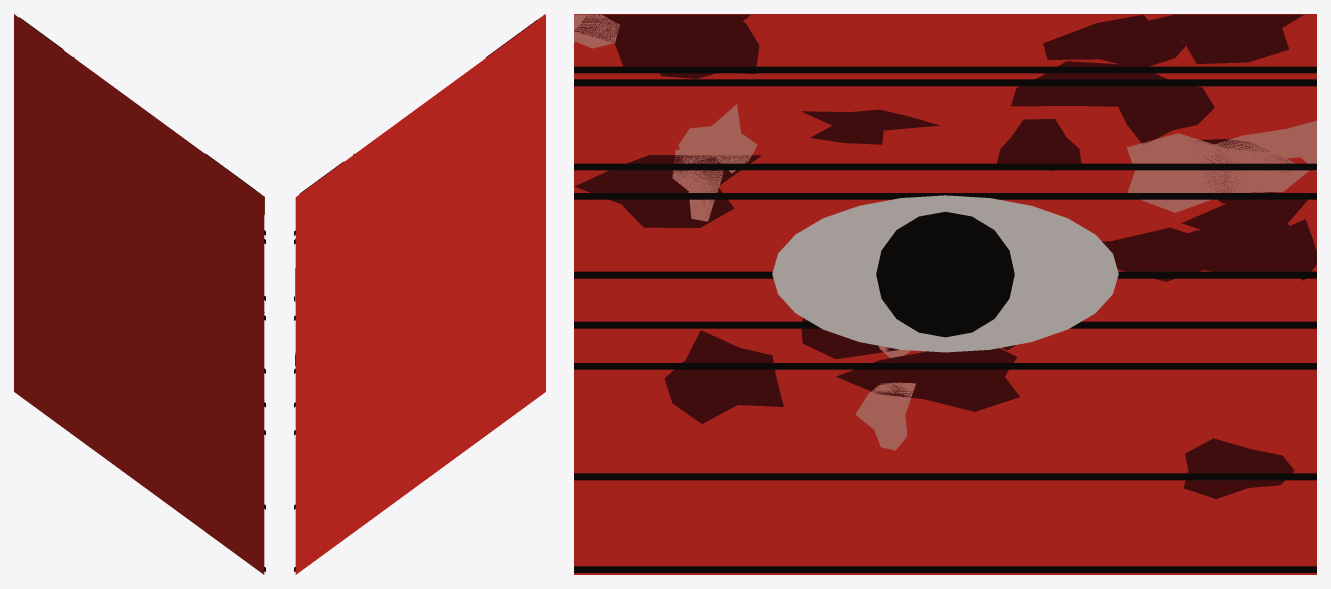
Rendered from ps_screen.glb.
3 renders of one model, left to right at view 1: azimuth 30°, elevation 25°; view 2: azimuth 150°, elevation 25°; view 3: azimuth 270°, elevation 25°, orthographic. The views are drawn at different scales.
Visible parts, largest first — view 1: teil0; view 2: teil0; view 3: teil0, teil2, teil3, teil4, teil1.
Boxes of the visible parts, x1,y1,x2,y2 form: teil0: (14, 14, 264, 574); teil0: (295, 14, 545, 574); teil0: (574, 14, 1316, 574); teil2: (574, 14, 1316, 498); teil3: (574, 66, 1316, 572); teil4: (772, 195, 1118, 352); teil1: (574, 14, 1316, 450).
Bounding box in the file's own units: 0.0024 × 0.25 × 0.3.
